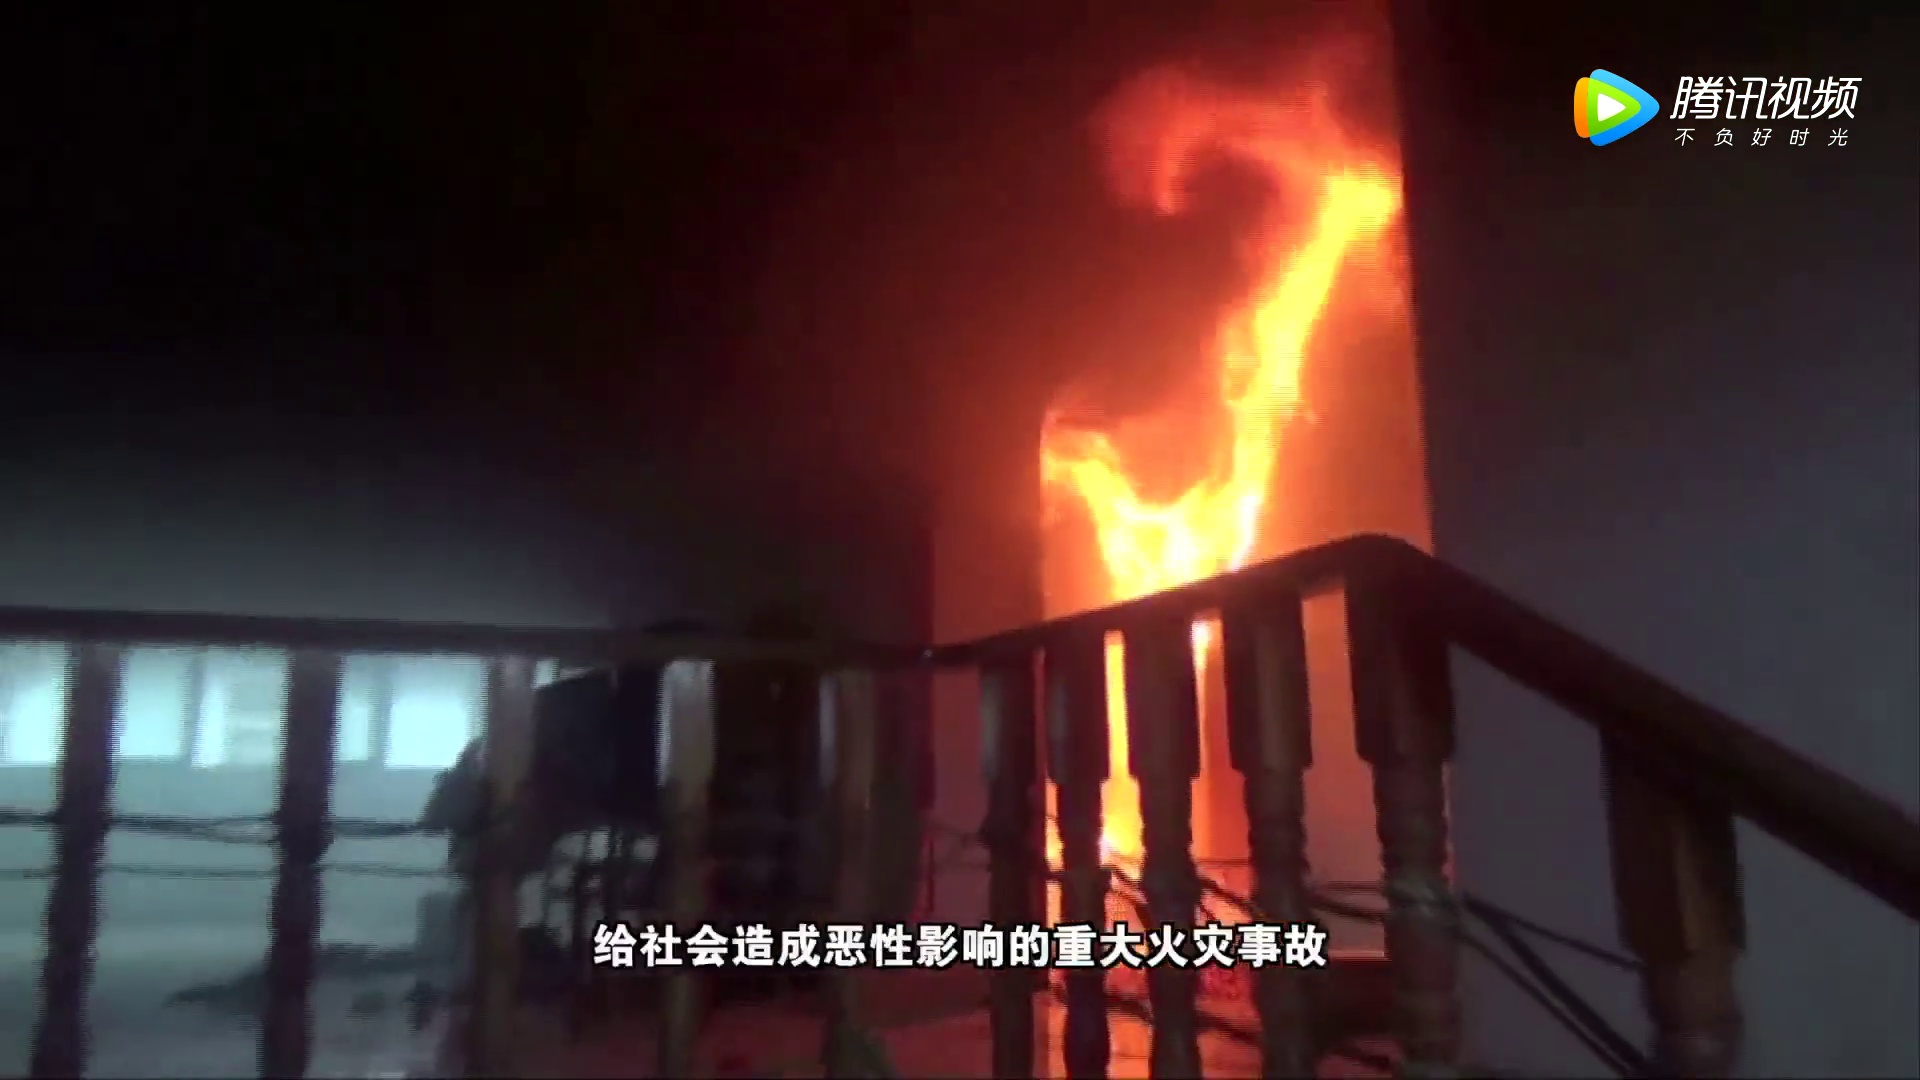fire: (986, 55, 1419, 732)
